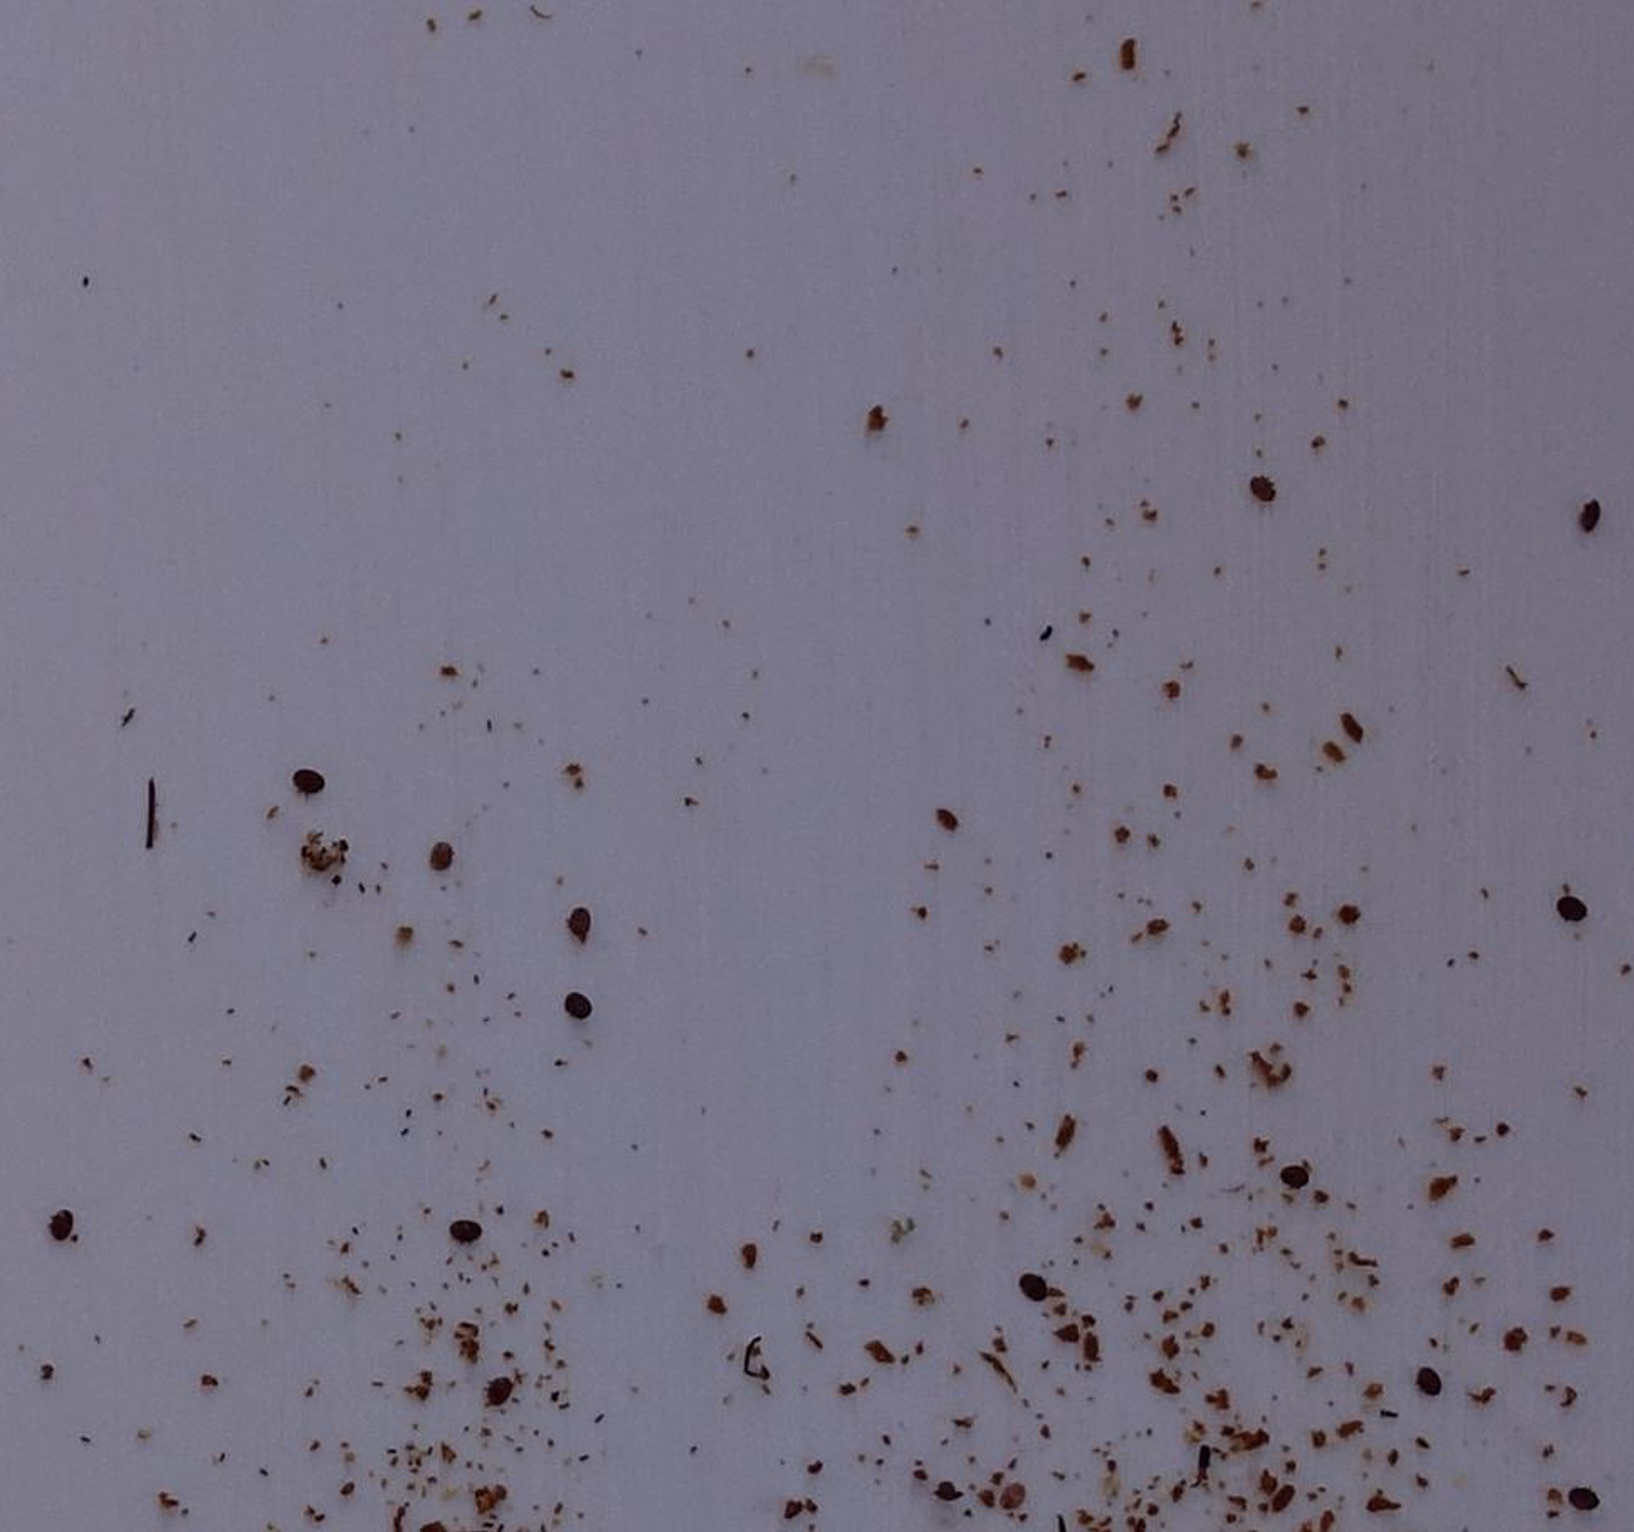Varroa: (285, 757, 331, 803), (554, 983, 599, 1029), (989, 1473, 1035, 1518), (1568, 497, 1602, 531), (451, 1215, 482, 1247), (1566, 1482, 1595, 1510), (1558, 893, 1586, 922), (1016, 1274, 1045, 1302), (45, 1207, 71, 1234), (564, 909, 592, 934), (1280, 1161, 1304, 1186), (1417, 1366, 1441, 1391), (489, 1376, 513, 1400), (430, 842, 453, 865), (1248, 477, 1271, 500)
